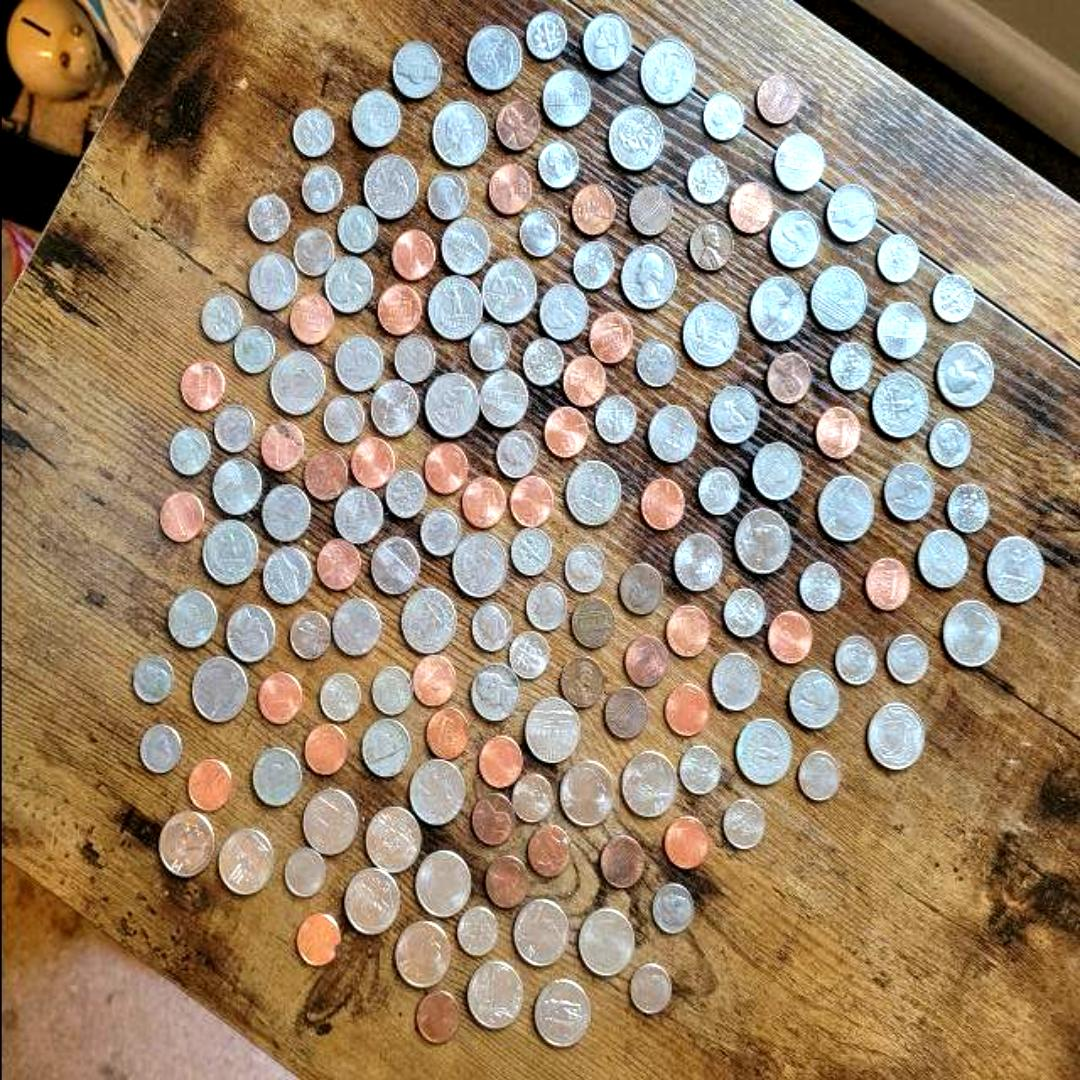Dime: (282, 849, 326, 899), (628, 963, 670, 1015), (834, 635, 876, 687), (138, 724, 180, 774), (651, 883, 693, 933), (721, 799, 763, 849), (797, 750, 839, 800), (946, 484, 988, 534), (927, 418, 969, 468), (875, 234, 917, 284), (931, 275, 974, 323), (509, 773, 551, 821), (131, 655, 173, 703), (167, 427, 209, 475), (232, 325, 274, 373), (199, 294, 241, 342), (246, 194, 288, 242), (290, 108, 332, 156), (425, 173, 467, 221), (524, 11, 566, 59), (701, 92, 743, 140), (685, 156, 727, 204), (517, 209, 559, 257), (570, 242, 612, 290), (520, 338, 562, 386), (392, 335, 434, 383), (419, 508, 461, 556), (382, 470, 424, 518), (287, 611, 329, 659), (317, 673, 359, 721), (455, 908, 497, 956), (509, 528, 551, 576), (506, 632, 548, 680), (524, 583, 566, 631), (562, 544, 604, 592), (593, 395, 635, 443), (635, 338, 677, 386), (797, 562, 839, 610), (696, 467, 738, 515), (677, 746, 719, 794), (884, 635, 926, 683), (828, 342, 870, 390), (212, 406, 254, 452), (300, 166, 342, 212), (370, 668, 412, 714), (469, 604, 511, 650), (721, 590, 763, 636), (292, 229, 332, 277), (337, 206, 377, 254), (469, 324, 509, 372), (323, 395, 363, 443), (496, 430, 536, 478), (537, 142, 577, 188)
Nickel: (327, 596, 381, 660), (224, 604, 274, 664), (768, 210, 818, 270), (882, 462, 932, 522), (333, 334, 383, 393), (360, 718, 410, 777), (710, 653, 760, 712), (750, 443, 800, 502), (772, 134, 822, 193), (250, 748, 300, 806), (477, 370, 527, 428), (707, 386, 757, 444), (788, 670, 838, 728), (875, 302, 925, 360), (917, 530, 967, 588), (210, 458, 260, 516), (368, 537, 418, 594), (333, 487, 381, 546), (166, 590, 216, 646), (351, 90, 399, 148), (248, 254, 296, 312), (261, 546, 309, 604), (540, 70, 588, 128), (826, 184, 874, 242), (391, 41, 439, 98), (538, 283, 586, 340), (673, 534, 721, 590), (647, 406, 695, 462), (470, 664, 518, 720), (440, 218, 488, 274), (324, 256, 372, 312), (582, 14, 630, 70), (370, 379, 416, 436), (261, 486, 309, 540)
Penny: (294, 913, 340, 967), (662, 816, 708, 870), (727, 181, 772, 235), (158, 490, 204, 542), (414, 990, 458, 1044), (664, 604, 708, 658), (766, 610, 810, 664), (348, 436, 393, 488), (483, 856, 528, 908), (639, 478, 684, 530), (688, 220, 733, 272), (754, 73, 799, 125), (813, 407, 858, 459), (864, 558, 909, 610), (477, 735, 520, 789), (178, 361, 224, 411), (460, 477, 504, 529), (508, 475, 552, 527), (390, 228, 434, 280), (302, 449, 346, 501), (186, 759, 230, 811), (256, 673, 300, 725), (410, 655, 454, 707), (424, 707, 468, 759), (470, 793, 514, 845), (526, 824, 570, 876), (494, 99, 538, 151), (570, 183, 614, 235), (600, 835, 642, 889), (664, 683, 706, 737), (315, 539, 360, 589), (602, 687, 645, 739), (543, 406, 586, 458), (376, 284, 420, 334), (288, 294, 332, 344), (560, 655, 602, 707), (424, 443, 466, 495), (260, 420, 302, 472), (304, 722, 346, 774), (624, 635, 666, 687), (488, 163, 530, 215), (618, 564, 661, 614), (588, 313, 631, 363), (628, 186, 670, 236), (570, 598, 612, 648), (562, 356, 604, 406), (766, 354, 808, 404)
Quarter: (864, 702, 923, 770), (576, 908, 634, 976), (734, 718, 792, 786), (940, 600, 998, 668), (520, 696, 578, 764), (816, 476, 874, 542), (870, 372, 928, 438), (934, 342, 992, 408), (532, 978, 588, 1046), (807, 266, 864, 332), (158, 812, 214, 879), (466, 961, 522, 1028), (300, 790, 358, 854), (422, 374, 480, 438), (562, 462, 620, 526), (984, 538, 1042, 602), (342, 868, 398, 934), (430, 100, 486, 166), (620, 752, 676, 818), (512, 900, 567, 967), (414, 850, 468, 918), (408, 758, 462, 826), (640, 38, 694, 106), (216, 829, 272, 894), (201, 520, 256, 586), (559, 760, 614, 826), (190, 658, 246, 722), (364, 808, 420, 872), (450, 533, 506, 597), (426, 276, 482, 340), (606, 106, 662, 170), (732, 509, 788, 573), (466, 24, 520, 90), (682, 301, 736, 366), (269, 351, 323, 415), (394, 922, 448, 986), (400, 589, 454, 653), (480, 259, 534, 323), (362, 154, 416, 218), (620, 246, 675, 308), (748, 280, 802, 340)
